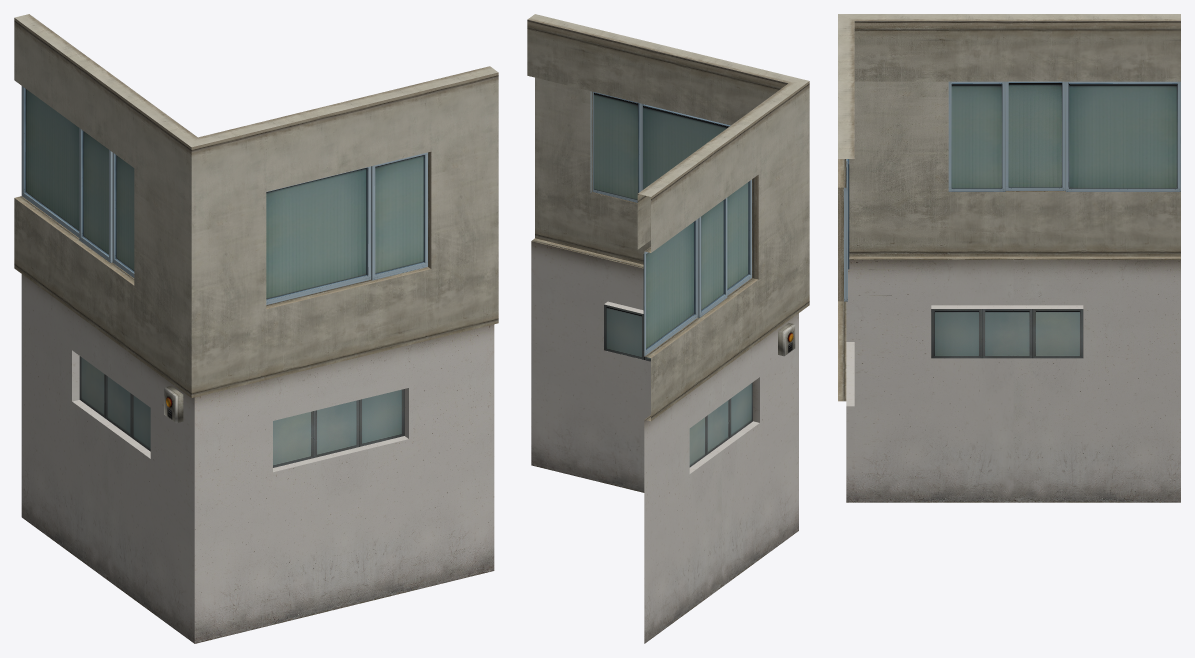
File: SM_ind_building_01.fbx
3 views of the same model, side by side, from view 1: azimuth 30°, elevation 25°; view 2: azimuth 150°, elevation 25°; view 3: azimuth 270°, elevation 25° (orthographic). The views are drawn at different scales.
Parts seen in each view (by area): view 1: SM_ind_building_01; view 2: SM_ind_building_01; view 3: SM_ind_building_01.
Part boxes in pixels (box(x1,y1,x2,y2)): SM_ind_building_01: box(14, 14, 498, 643); SM_ind_building_01: box(527, 14, 809, 643); SM_ind_building_01: box(838, 14, 1180, 502).
Size of the model in its own units: 659 by 656 by 1024.
3 materials, 3 textured.
